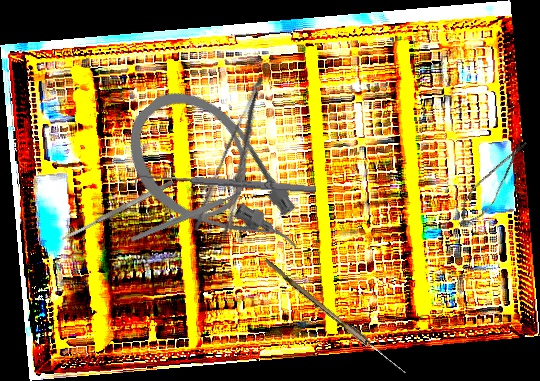Cannula: (105, 70, 325, 296)
Dressing Forceps: (190, 73, 292, 243)
Hook Surgical: (134, 170, 317, 202)
Micro Scissor: (450, 133, 534, 234)
Scalpel Handle: (130, 190, 243, 243)
Spatula Surgical: (60, 179, 175, 242)
Surgical Spoon: (261, 258, 409, 376)
